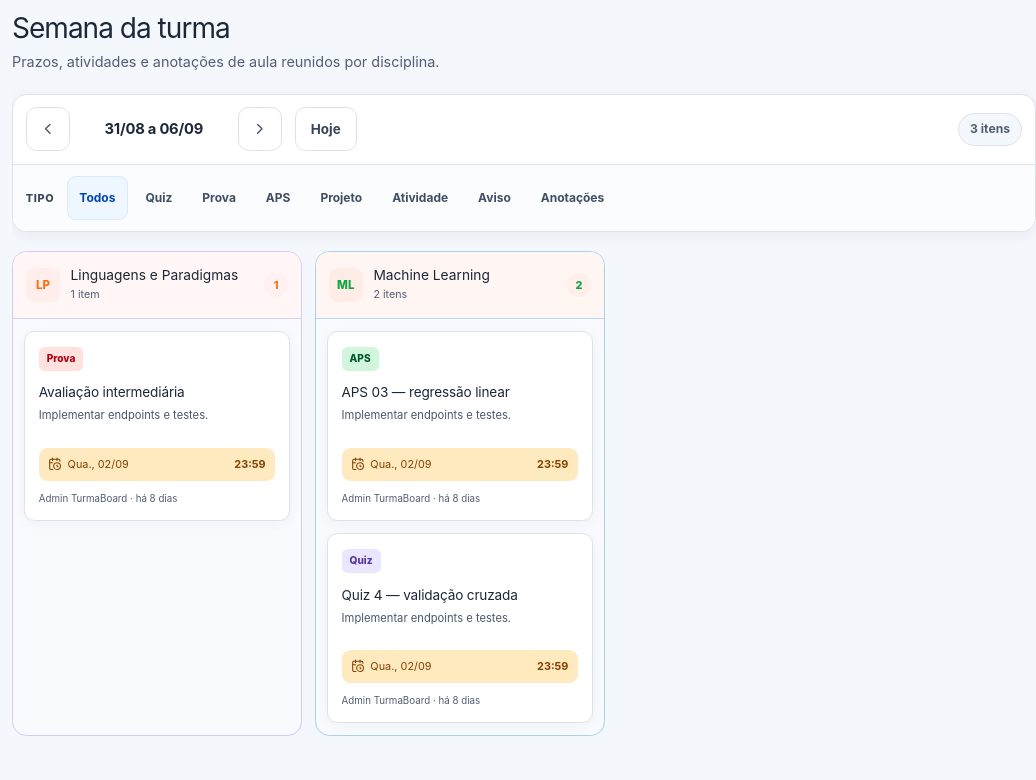
it: WeekPage › narrows the board to a single type and updates the count
Expected: the heading "Avaliação intermediária" is shown, [39,384,185,400]
Click the button "Prova". click: coordinates (219, 198)
box: [190,176,248,220]
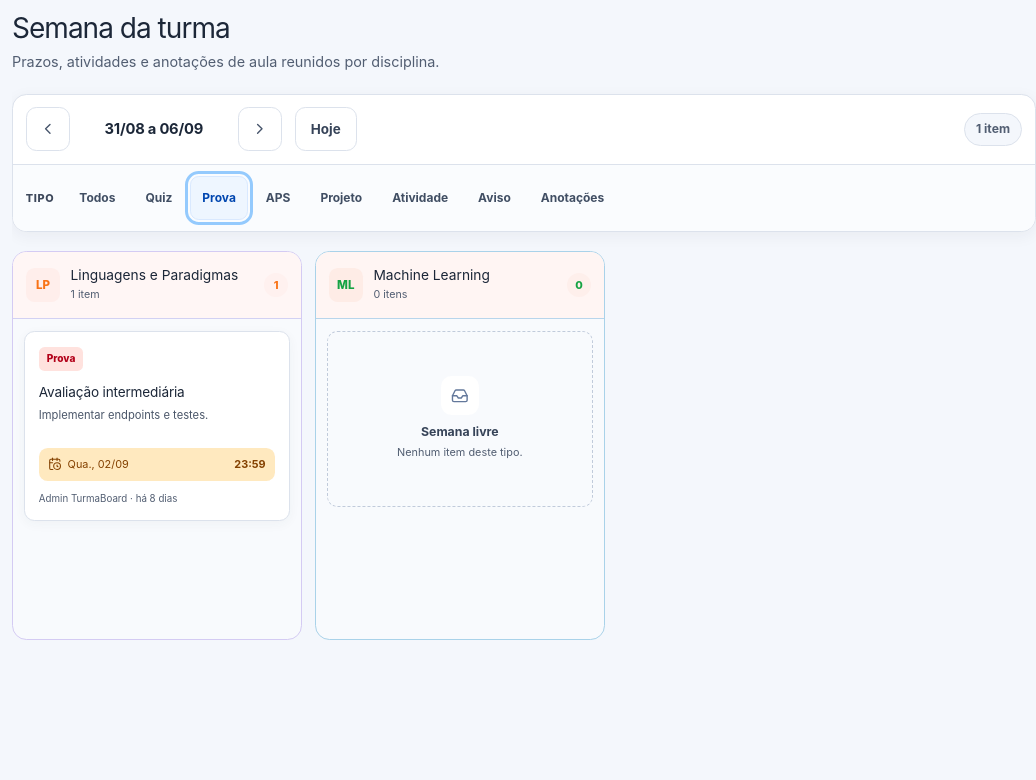
Expected: the heading "Avaliação intermediária" is shown, [39,384,185,400]
Now the heading "Quiz 4 — validação cruzada" is gone
Now the text "1 item" in the row of "31/08 a 06/09" is shown, box [964,113,1022,146]
